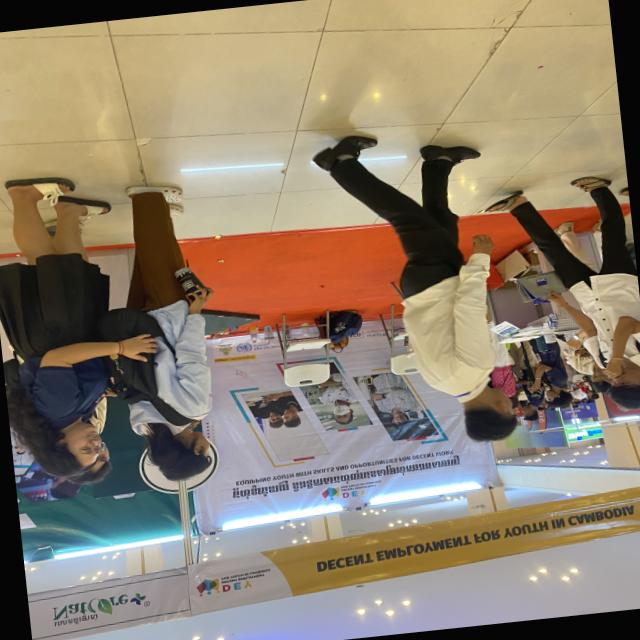1: (228, 453, 464, 502)
Yolov11_80vkh: (49, 609, 102, 630)
